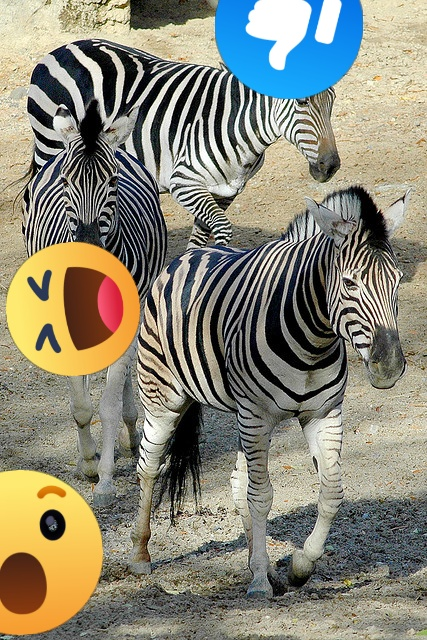haha: (6, 242, 140, 376)
like: (215, 0, 363, 99)
wow: (0, 470, 103, 635)
